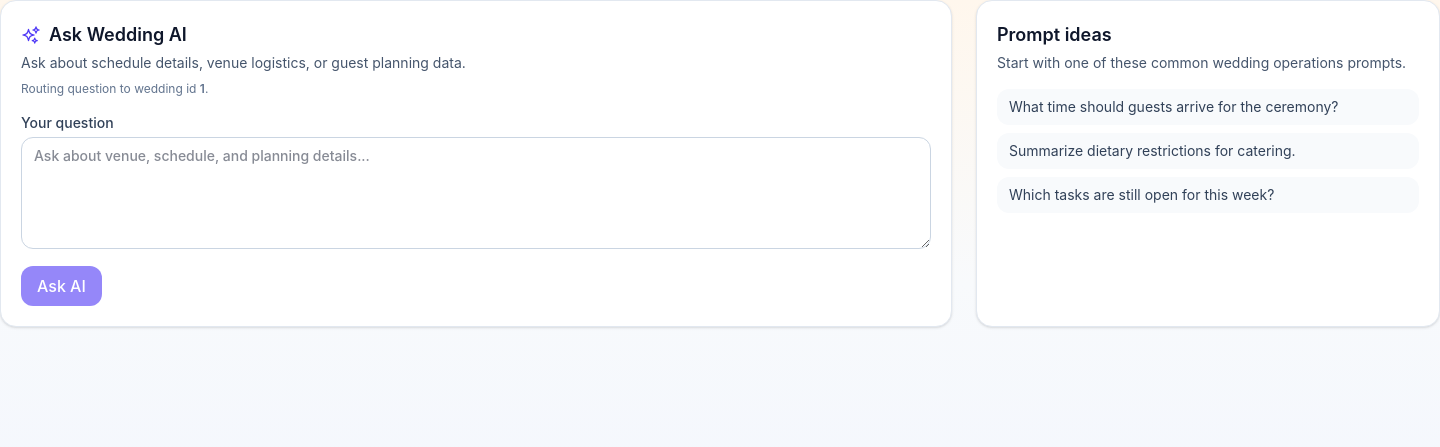
Test: AIQnAPage › submit asks AI and shows answer
Step 1. Type "What time should guests arrive?" into the text box with placeholder "Ask about venue, schedule, and planning details..." → (476, 193), box [21, 137, 931, 249]
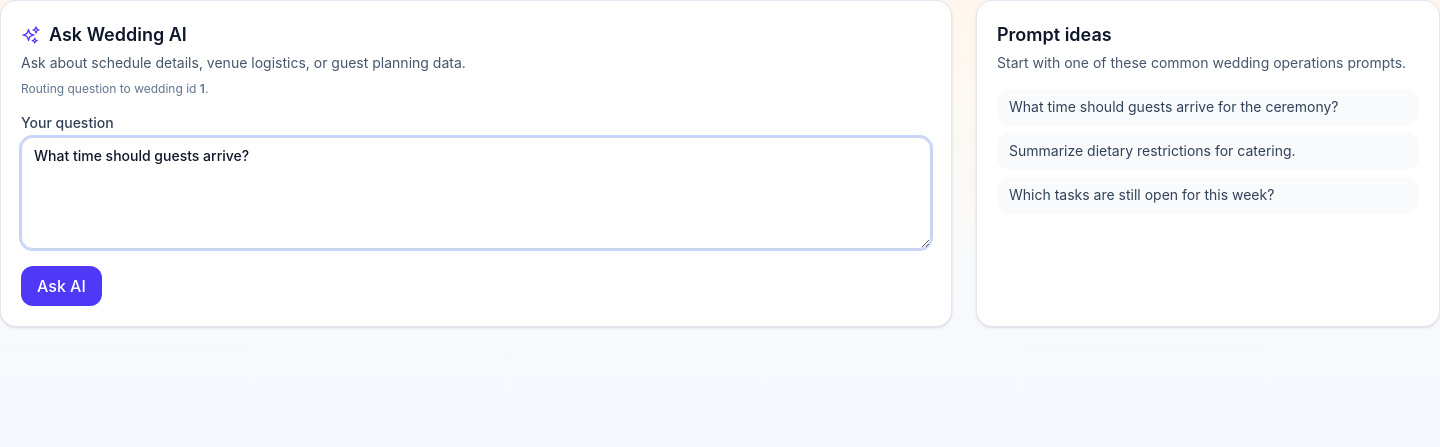
Step 2. Click the button "Ask AI" → (61, 286), box [21, 266, 102, 306]
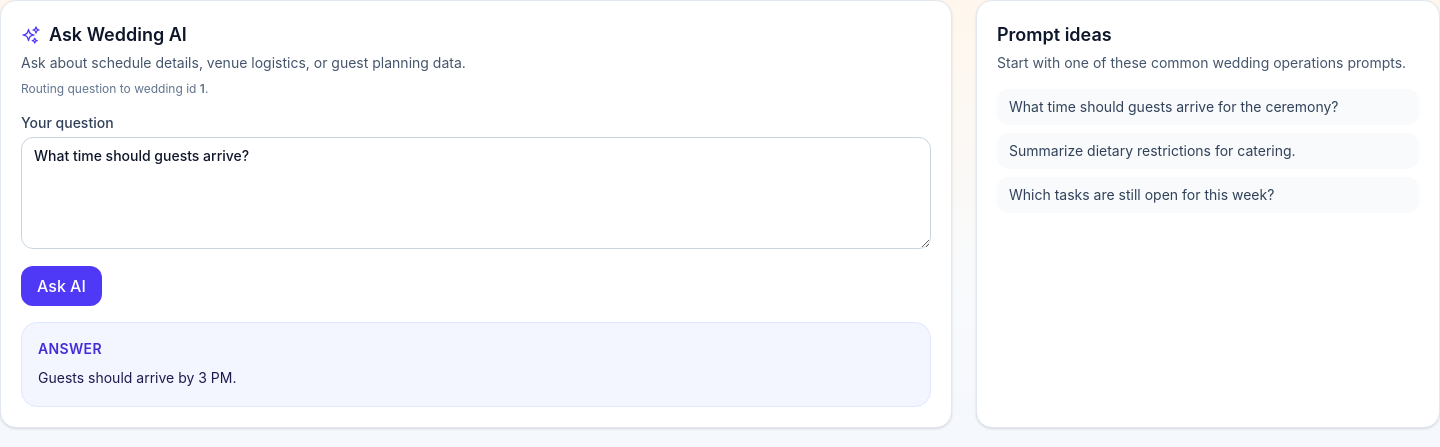
Now the text "Guests should arrive by 3 PM." is shown, box [38, 369, 236, 386]
